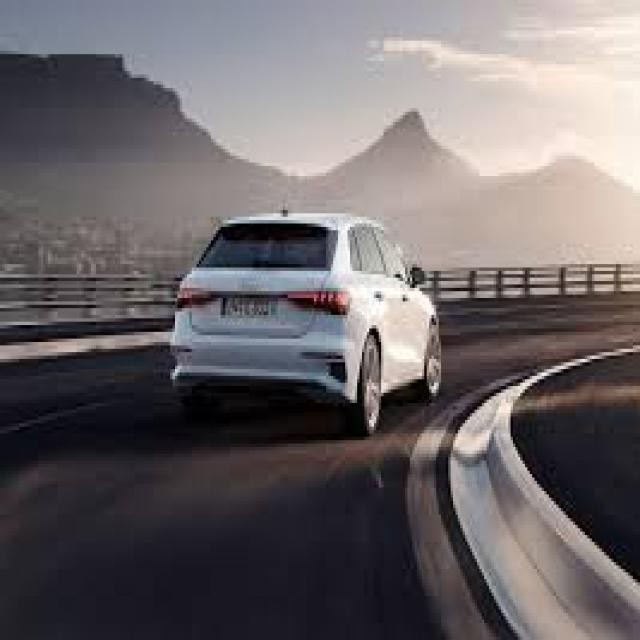Car: (171, 219, 440, 434)
